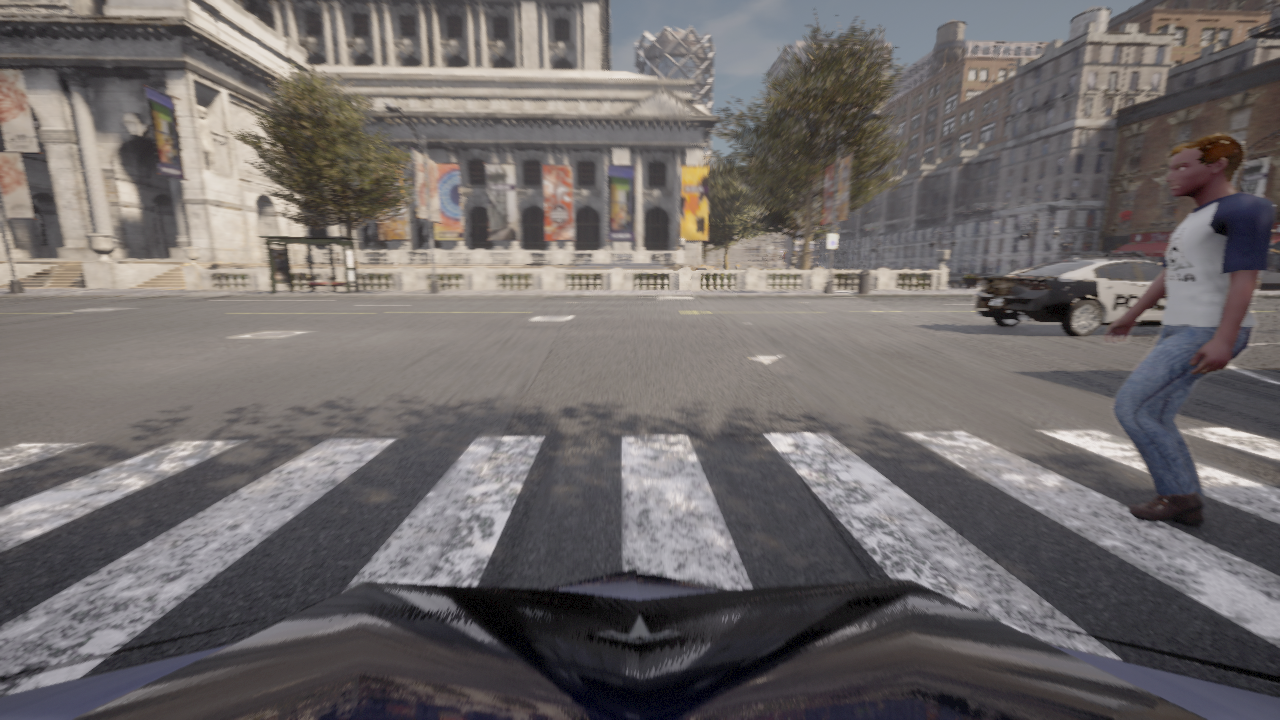cyclist: (0, 569, 1279, 719), (974, 250, 1167, 336)
pedestrian: (1105, 133, 1276, 526)
